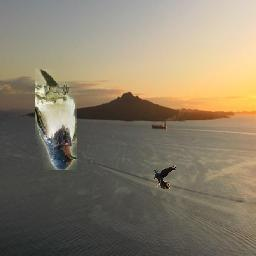Crow: (154, 165, 177, 190)
Swallow: (35, 70, 77, 171)
